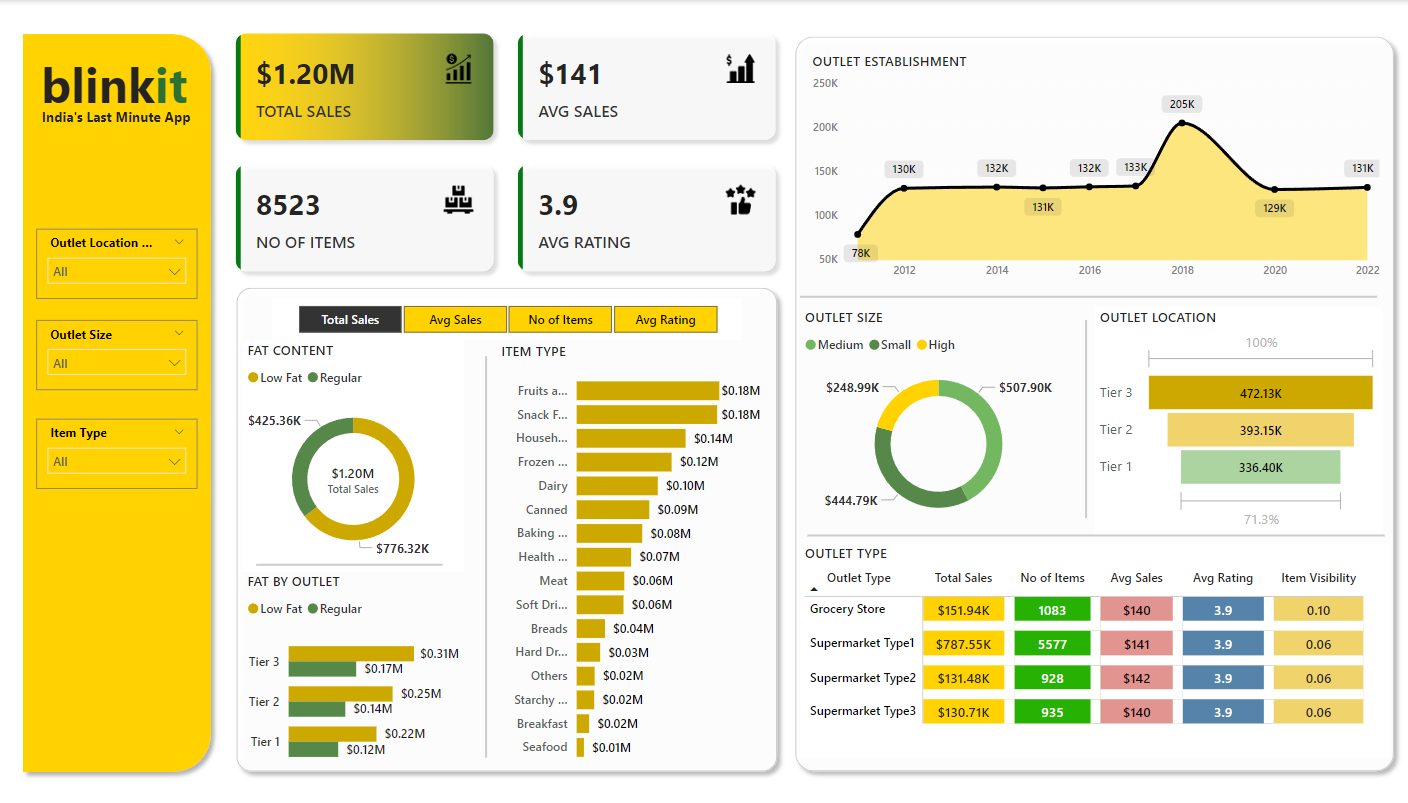

This screenshot's page, from the dashboard's own definition file:
{"tool":"powerbi","page":{"name":"Page 1","canvas":[1400,800],"ordinal":0},"visuals":[{"type":"shape","box":[13.6,24.8,204.7,750.4],"z":0},{"type":"group","id":"g1","title":"Group 1","box":[12.4,45.9,229.5,94.3],"z":1000},{"type":"textbox","box":[36,45.9,205.9,94.3],"z":1000,"group":"g1"},{"type":"cardVisual","fields":{"Data":["BlinkIT Grocery Data.Total Sales","BlinkIT Grocery Data.Avg Sales","BlinkIT Grocery Data.No of Items","BlinkIT Grocery Data.Avg Rating"]},"box":[217.6,15.7,570.2,270],"z":2000},{"type":"textbox","box":[12.4,101.7,205.9,28.5],"z":2000,"group":"g1"},{"type":"shape","box":[225.5,276.6,554.5,498.1],"z":3000},{"type":"donutChart","title":"FAT CONTENT","fields":{"Y":["BlinkIT Grocery Data.Total Sales"],"Category":["BlinkIT Grocery Data.Item Fat Content"]},"box":[241.2,336.9,220.2,230.7],"z":4000},{"type":"slicer","fields":{"Values":["Metrics.Metrics"]},"box":[270,296.3,465.4,40.6],"z":5000},{"type":"cardVisual","fields":{"Data":["BlinkIT Grocery Data.Total Sales"]},"box":[306.5,438,88.1,76.9],"z":6000},{"type":"clusteredBarChart","title":"FAT BY OUTLET","fields":{"Y":["BlinkIT Grocery Data.Total Sales"],"Category":["BlinkIT Grocery Data.Outlet Location Type"],"Series":["BlinkIT Grocery Data.Item Fat Content"]},"box":[241.2,567.6,220.2,207.1],"z":7000},{"type":"shape","box":[254.3,553.2,184.8,14.4],"z":8000},{"type":"shape","box":[474.5,353.9,17,398.5],"z":9000},{"type":"barChart","title":"ITEM TYPE","fields":{"Y":["BlinkIT Grocery Data.Total Sales"],"Category":["BlinkIT Grocery Data.Item Type"]},"box":[492.9,338.2,267.4,427.3],"z":10000},{"type":"shape","box":[780,27.5,612.2,747.2],"z":11000},{"type":"lineChart","title":"OUTLET ESTABLISHMENT","fields":{"Category":["BlinkIT Grocery Data.Outlet Establishment Year"],"Y":["Sum(BlinkIT Grocery Data.Sales)"]},"box":[800.9,51.1,572.8,234.6],"z":12000},{"type":"shape","box":[794.4,285.8,572.8,18.4],"z":13000},{"type":"donutChart","title":"OUTLET SIZE","fields":{"Y":["BlinkIT Grocery Data.Total Sales"],"Category":["BlinkIT Grocery Data.Outlet Size"]},"box":[794.4,305.4,275.3,225.5],"z":14000},{"type":"shape","box":[1069.7,317.2,17,196.6],"z":15000},{"type":"funnel","title":"OUTLET LOCATION","fields":{"Category":["BlinkIT Grocery Data.Outlet Location Type"],"Y":["Sum(BlinkIT Grocery Data.Sales)"]},"box":[1086.7,305.4,285.8,225.5],"z":16000},{"type":"shape","box":[800.9,521.7,572.8,18.4],"z":17000},{"type":"pivotTable","title":"OUTLET TYPE","fields":{"Rows":["BlinkIT Grocery Data.Outlet Type"],"Values":["BlinkIT Grocery Data.Total Sales","BlinkIT Grocery Data.No of Items","BlinkIT Grocery Data.Avg Sales","BlinkIT Grocery Data.Avg Rating","Avg(BlinkIT Grocery Data.Item Visibility)"]},"box":[794.4,540.1,584.6,212.4],"z":18000},{"type":"slicer","fields":{"Values":["BlinkIT Grocery Data.Outlet Location Type"]},"box":[35.4,226.8,159.9,69.5],"z":19000},{"type":"slicer","fields":{"Values":["BlinkIT Grocery Data.Outlet Size"]},"box":[35.4,317.2,159.9,69.5],"z":20000},{"type":"slicer","fields":{"Values":["BlinkIT Grocery Data.Item Type"]},"box":[35.4,415.5,159.9,69.5],"z":21000}]}

Visuals, with their boxes in screenshot pixels (x1, y1, x2, y2), scaled from the page's 1400x800 canvas onto the 1408x803 screenshot:
shape: 14, 25, 220, 778
"Group 1" group: 12, 46, 243, 141
textbox: 36, 46, 243, 141
cardVisual - BlinkIT Grocery Data.Total Sales x BlinkIT Grocery Data.Avg Sales: 219, 16, 792, 287
textbox: 12, 102, 220, 131
shape: 227, 278, 784, 778
"FAT CONTENT" donutChart: 243, 338, 464, 570
slicer - Metrics.Metrics: 272, 297, 740, 338
cardVisual - BlinkIT Grocery Data.Total Sales: 308, 440, 397, 517
"FAT BY OUTLET" clusteredBarChart: 243, 570, 464, 778
shape: 256, 555, 442, 570
shape: 477, 355, 494, 755
"ITEM TYPE" barChart: 496, 339, 765, 768
shape: 784, 28, 1400, 778
"OUTLET ESTABLISHMENT" lineChart: 805, 51, 1382, 287
shape: 799, 287, 1375, 305
"OUTLET SIZE" donutChart: 799, 307, 1076, 533
shape: 1076, 318, 1093, 516
"OUTLET LOCATION" funnel: 1093, 307, 1380, 533
shape: 805, 524, 1382, 542
"OUTLET TYPE" pivotTable: 799, 542, 1387, 755
slicer - BlinkIT Grocery Data.Outlet Location Type: 36, 228, 196, 297
slicer - BlinkIT Grocery Data.Outlet Size: 36, 318, 196, 388
slicer - BlinkIT Grocery Data.Item Type: 36, 417, 196, 487
